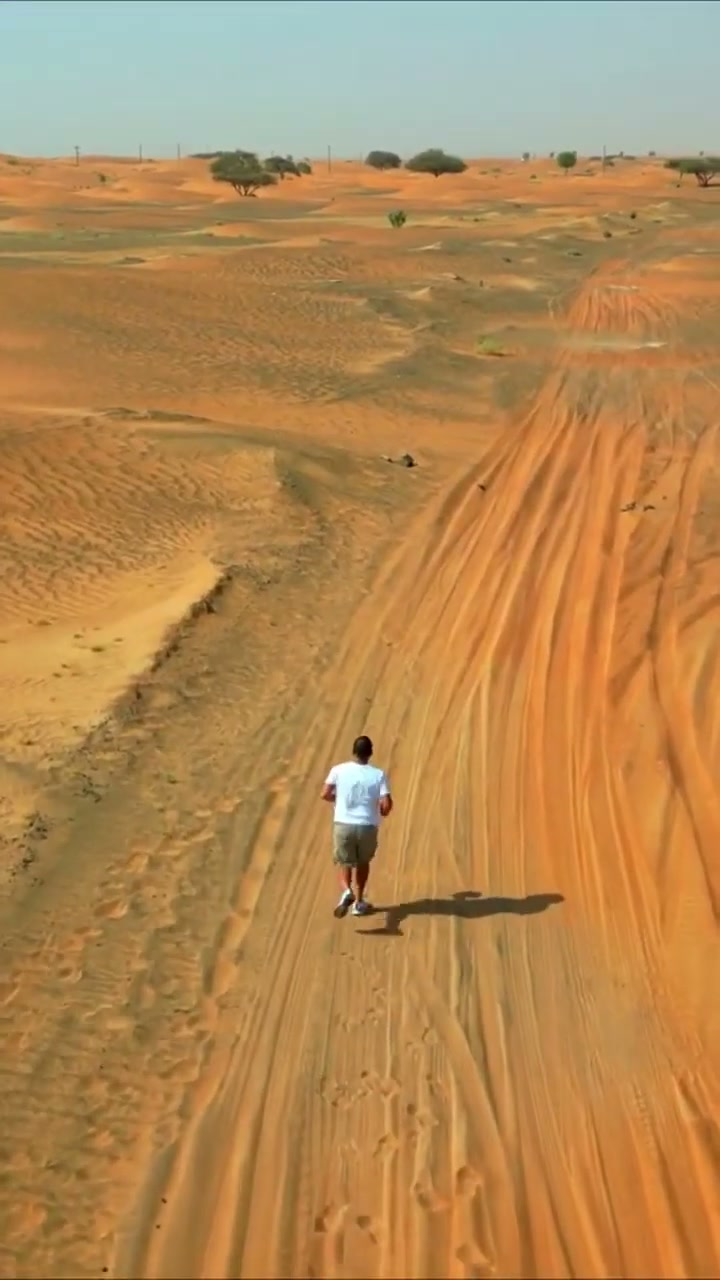human: (321, 735, 392, 916)
vehicle_track: (576, 389, 709, 1265), (433, 440, 573, 1265)
